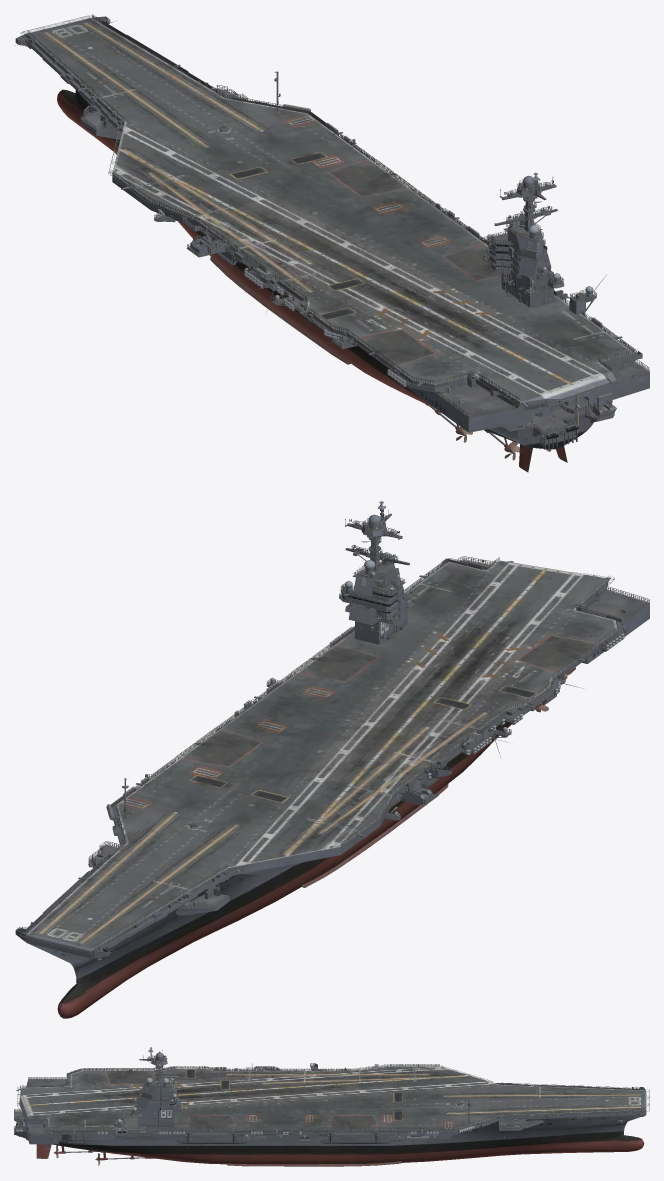
The picture shows the model from 3 angles, top to bottom: view 1: azimuth 30°, elevation 25°; view 2: azimuth 150°, elevation 25°; view 3: azimuth 270°, elevation 25°; orthographic projection. The views are drawn at different scales.
Parts seen in each view (by area): view 1: Object_2, Object_3; view 2: Object_2, Object_3; view 3: Object_2, Object_3.
Boxes of the visible parts, x1=… form: Object_2: x1=14, y1=16, x2=649, y2=472; Object_3: x1=18, y1=14, x2=649, y2=443; Object_2: x1=15, y1=501, x2=649, y2=1018; Object_3: x1=19, y1=509, x2=649, y2=953; Object_2: x1=14, y1=1047, x2=646, y2=1166; Object_3: x1=14, y1=1054, x2=649, y2=1141.
Size of the model in its own units: 116 by 90.87 by 400.
2 materials, 2 textured.
